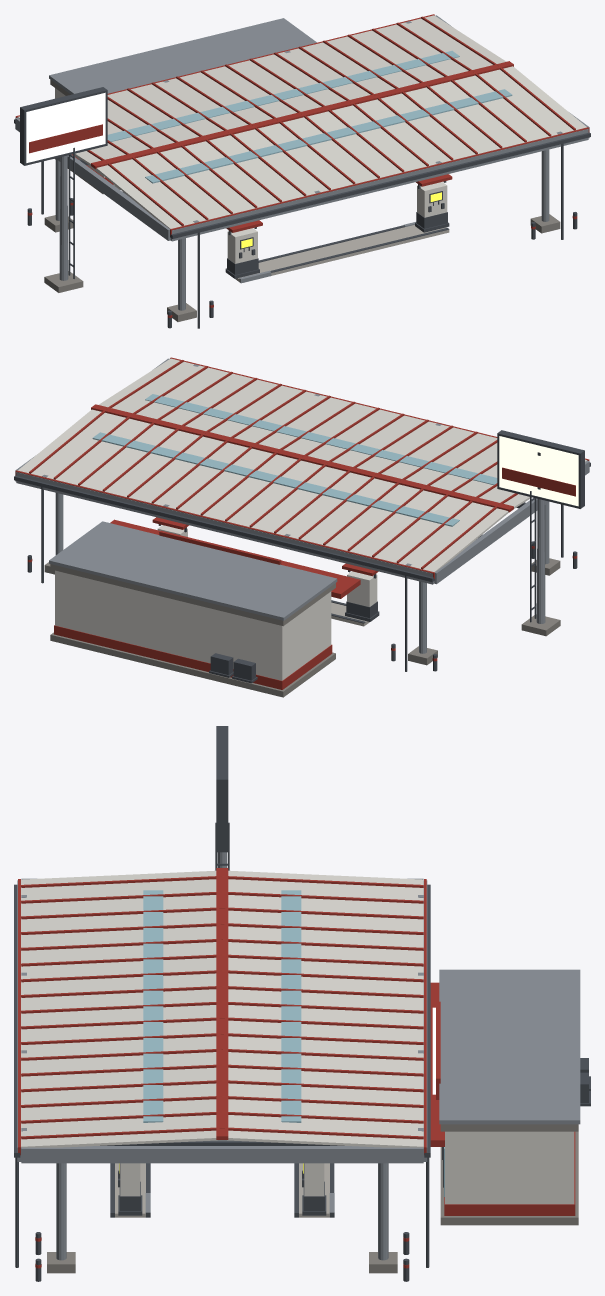
File: gas_station.glb
3 views of the same model, one above another, from view 1: azimuth 30°, elevation 25°; view 2: azimuth 150°, elevation 25°; view 3: azimuth 270°, elevation 25° (orthographic). The views are drawn at different scales.
Parts seen in each view (by area): view 1: GasStation_ShopWhite, GasStation_Steel, GasStation_CanopyRed, GasStation_SteelDark, GasStation_Glass, GasStation_SIGN_Panel, GasStation_Concrete, GasStation_ConcreteDark; view 2: GasStation_ShopWhite, GasStation_Steel, GasStation_CanopyRed, GasStation_SteelDark, GasStation_Glass, GasStation_ConcreteDark, GasStation_SIGN_Panel; view 3: GasStation_ShopWhite, GasStation_Steel, GasStation_CanopyRed, GasStation_Glass, GasStation_SteelDark, GasStation_ConcreteDark, GasStation_Concrete.
Part boxes in pixels (left/top/right/bottom): GasStation_ShopWhite: left=17, top=15, right=586, bottom=263; GasStation_Steel: left=15, top=15, right=589, bottom=310; GasStation_CanopyRed: left=15, top=14, right=589, bottom=317; GasStation_SteelDark: left=14, top=87, right=590, bottom=328; GasStation_Glass: left=107, top=50, right=512, bottom=183; GasStation_SIGN_Panel: left=26, top=92, right=105, bottom=162; GasStation_Concrete: left=235, top=225, right=449, bottom=282; GasStation_ConcreteDark: left=44, top=80, right=560, bottom=321; GasStation_ShopWhite: left=18, top=358, right=587, bottom=680; GasStation_Steel: left=15, top=358, right=589, bottom=653; GasStation_CanopyRed: left=15, top=357, right=589, bottom=689; GasStation_SteelDark: left=14, top=430, right=590, bottom=683; GasStation_Glass: left=92, top=394, right=497, bottom=526; GasStation_ConcreteDark: left=44, top=558, right=560, bottom=697; GasStation_SIGN_Panel: left=499, top=436, right=578, bottom=506; GasStation_ShopWhite: left=21, top=870, right=574, bottom=1204; GasStation_Steel: left=17, top=852, right=580, bottom=1260; GasStation_CanopyRed: left=18, top=868, right=575, bottom=1268; GasStation_Glass: left=143, top=890, right=444, bottom=1197; GasStation_SteelDark: left=14, top=726, right=590, bottom=1281; GasStation_ConcreteDark: left=47, top=1124, right=578, bottom=1273; GasStation_Concrete: left=115, top=1163, right=329, bottom=1217.
Bounding box in the file's own units: 2.59 × 0.94 × 2.01.
